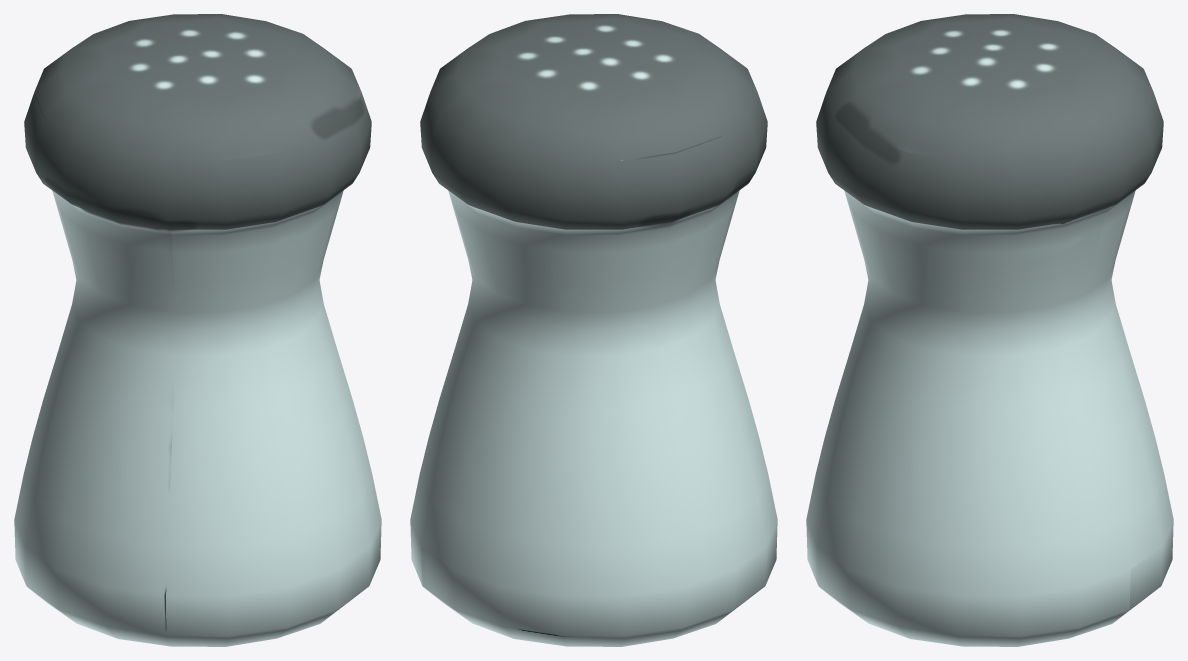
Rendered from Salt.fbx.
3 renders of one model, left to right at view 1: azimuth 30°, elevation 25°; view 2: azimuth 150°, elevation 25°; view 3: azimuth 270°, elevation 25°, orthographic.
Visible parts, largest first — view 1: SaltShaker; view 2: SaltShaker; view 3: SaltShaker.
Boxes of the visible parts, box(x1,y1,x2,y2) form: SaltShaker: box(14, 14, 381, 646); SaltShaker: box(410, 14, 777, 646); SaltShaker: box(806, 14, 1173, 646).
Size of the model in its own units: 6.79 by 6.69 by 10.89.
Materials: 1 (1 with a texture image).
